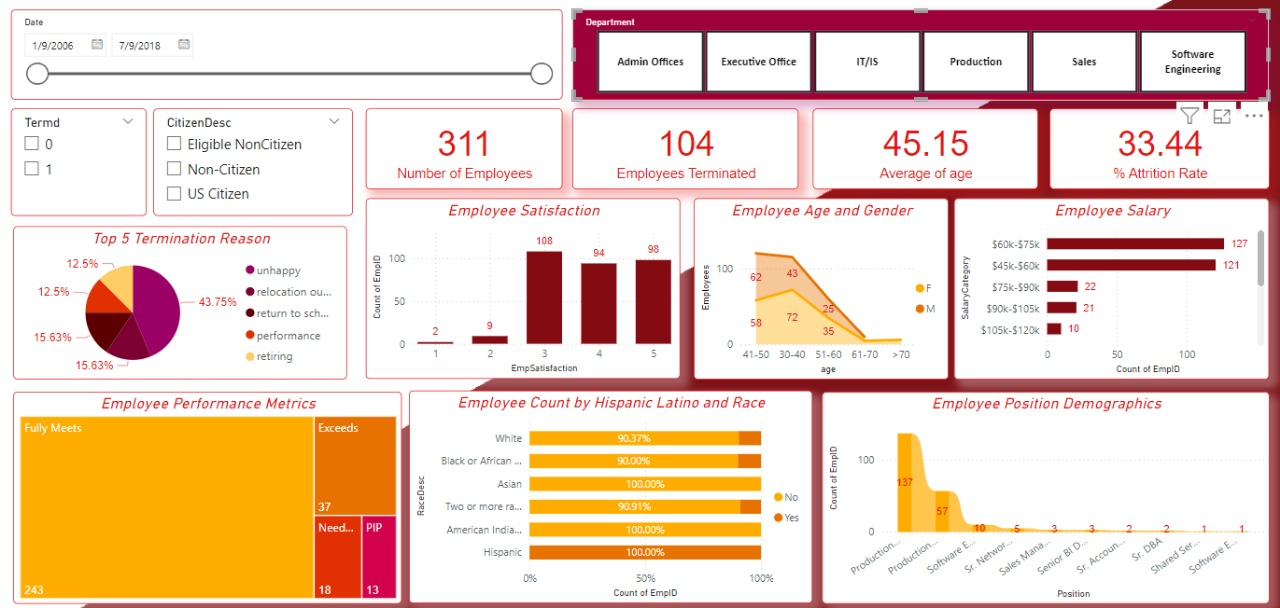

Layout of this report page (visuals, bound fields, positions):
{"tool":"powerbi","page":{"name":"Attrition Analysis","canvas":[1500,720],"ordinal":3},"visuals":[{"type":"card","fields":{"Values":["CountNonNull(HRDataset_v14.EmpID)"]},"box":[429.8,132.1,229.2,94.7],"z":0},{"type":"card","fields":{"Values":["Sum(HRDataset_v14.Termd)"]},"box":[670.3,132.1,264.1,94.7],"z":1000},{"type":"card","fields":{"Values":["HRDataset_v14.Termd divided by EmpID"]},"box":[1228.4,132.1,256.6,94.7],"z":2000},{"type":"pieChart","title":"Top 5 Termination Reason","fields":{"Category":["HRDataset_v14.TermReason"],"Y":["CountNonNull(HRDataset_v14.EmpID)"]},"box":[17.9,269.9,390,179.4],"z":3000},{"type":"card","fields":{"Values":["Avg(HRDataset_v14.age)"]},"box":[950.6,132.1,262.9,94.7],"z":4000},{"type":"stackedAreaChart","title":"Employee Age and Gender ","fields":{"Series":["HRDataset_v14.Sex"],"Y":["CountNonNull(HRDataset_v14.EmpID)"],"Category":["HRDataset_v14.AgeCategory"]},"box":[812.8,237.5,297.8,211.8],"z":5000},{"type":"clusteredColumnChart","title":"Employee Satisfaction","fields":{"Category":["HRDataset_v14.EmpSatisfaction"],"Y":["CountNonNull(HRDataset_v14.EmpID)"]},"box":[429.8,237.8,367.3,211],"z":6000},{"type":"ribbonChart","title":"Employee Position Demographics","fields":{"Category":["HRDataset_v14.Position"],"Y":["CountNonNull(HRDataset_v14.EmpID)"]},"box":[962.2,463.3,522.4,247.8],"z":7000},{"type":"treemap","title":"Employee Performance Metrics","fields":{"Group":["HRDataset_v14.PerformanceScore"],"Values":["CountNonNull(HRDataset_v14.EmpID)"]},"box":[17.9,463.3,453.2,247.8],"z":8000},{"type":"slicer","title":"Top 5 Termination Reason","fields":{"Values":["HRDataset_v14.Termd"]},"box":[15,132.1,158.2,125.8],"z":9000},{"type":"hundredPercentStackedBarChart","title":"Employee Count by Hispanic Latino and Race","fields":{"Y":["CountNonNull(HRDataset_v14.EmpID)"],"Category":["HRDataset_v14.RaceDesc"],"Series":["HRDataset_v14.HispanicLatino"]},"box":[480,462.1,471.1,248.9],"z":10000},{"type":"slicer","title":"Top 5 Termination Reason","fields":{"Values":["HRDataset_v14.CitizenDesc"]},"box":[181.9,132.1,233,125.8],"z":11000},{"type":"slicer","title":"Top 5 Termination Reason","fields":{"Values":["HRDataset_v14.DateofHire"]},"box":[15.1,16.3,643.8,105.9],"z":12000},{"type":"clusteredBarChart","title":"Employee Salary","fields":{"Y":["CountNonNull(HRDataset_v14.EmpID)"],"Category":["HRDataset_v14.SalaryCategory"]},"box":[1116.3,237.8,368.4,212.1],"z":13000},{"type":"slicer","fields":{"Values":["HRDataset_v14.Department"]},"box":[670.6,16.3,813.8,105.9],"z":14000}]}

Visuals, with their boxes in screenshot pixels (x1, y1, x2, y2), scaled from the page's 1500x720 canvas onto the 1280x608 screenshot:
card - CountNonNull(HRDataset_v14.EmpID): [left=367, top=112, right=562, bottom=192]
card - Sum(HRDataset_v14.Termd): [left=572, top=112, right=797, bottom=192]
card - HRDataset_v14.Termd divided by EmpID: [left=1048, top=112, right=1267, bottom=192]
"Top 5 Termination Reason" pieChart: [left=15, top=228, right=348, bottom=379]
card - Avg(HRDataset_v14.age): [left=811, top=112, right=1036, bottom=192]
"Employee Age and Gender " stackedAreaChart: [left=694, top=201, right=948, bottom=379]
"Employee Satisfaction" clusteredColumnChart: [left=367, top=201, right=680, bottom=379]
"Employee Position Demographics" ribbonChart: [left=821, top=391, right=1267, bottom=600]
"Employee Performance Metrics" treemap: [left=15, top=391, right=402, bottom=600]
"Top 5 Termination Reason" slicer: [left=13, top=112, right=148, bottom=218]
"Employee Count by Hispanic Latino and Race" hundredPercentStackedBarChart: [left=410, top=390, right=812, bottom=600]
"Top 5 Termination Reason" slicer: [left=155, top=112, right=354, bottom=218]
"Top 5 Termination Reason" slicer: [left=13, top=14, right=562, bottom=103]
"Employee Salary" clusteredBarChart: [left=953, top=201, right=1267, bottom=380]
slicer - HRDataset_v14.Department: [left=572, top=14, right=1267, bottom=103]
